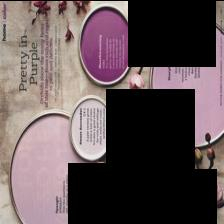purple: (126, 94, 182, 175)
